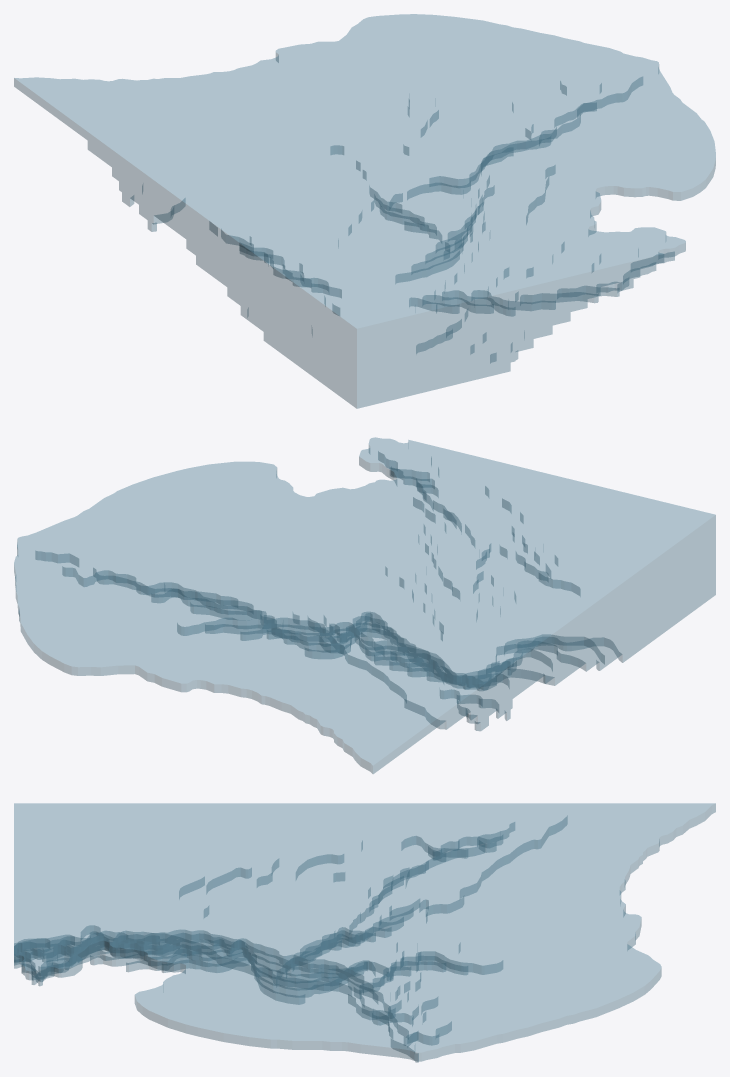
The model's file is water-draco.ccccc70f.glb.
The picture shows the model from 3 angles, top to bottom: view 1: azimuth 30°, elevation 25°; view 2: azimuth 150°, elevation 25°; view 3: azimuth 270°, elevation 25°; orthographic projection. The views are drawn at different scales.
Visible parts, largest first — view 1: water; view 2: water; view 3: water.
Part boxes in pixels (x1,y1,x2,y2): water: (14,14,715,408); water: (14,437,715,773); water: (14,803,715,1062).
Size of the model in its own units: 82.82 by 12.7 by 98.45.
1 material, 1 textured.
